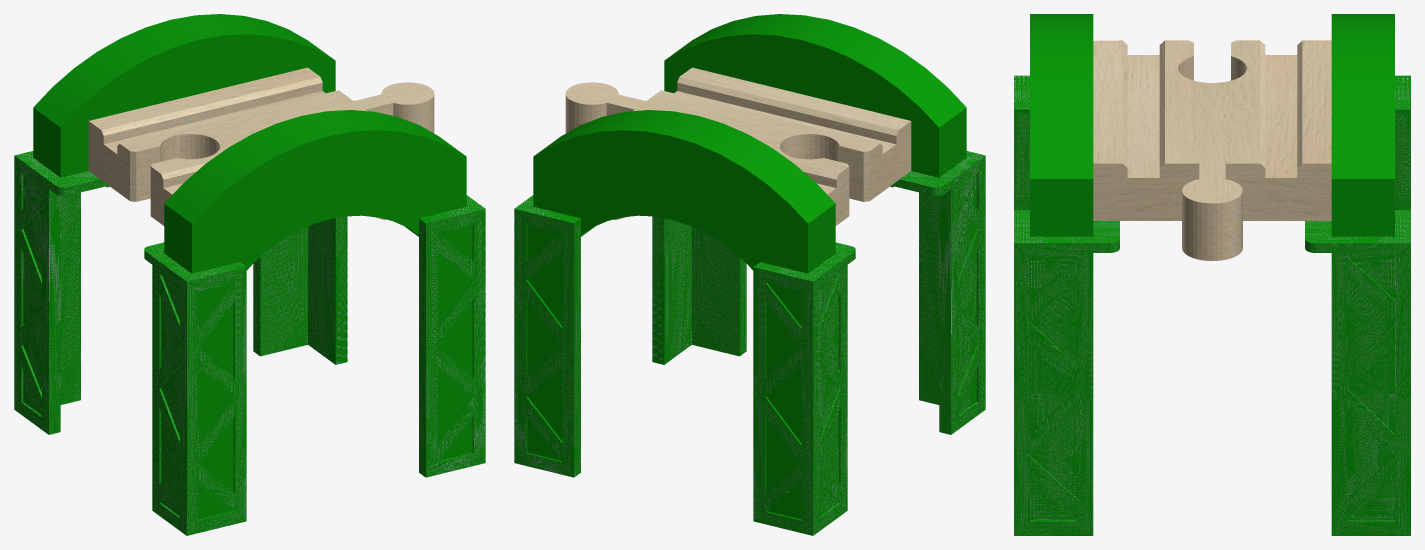
3 views of the same model, side by side, from view 1: azimuth 30°, elevation 25°; view 2: azimuth 150°, elevation 25°; view 3: azimuth 270°, elevation 25° (orthographic). The views are drawn at different scales.
Visible parts, largest first — view 1: Stacking_Track_Support_Leg (×20), Stacking_Track_Arch (×2), SketchUp; view 2: Stacking_Track_Support_Leg (×20), Stacking_Track_Arch (×2), SketchUp; view 3: Stacking_Track_Support_Leg (×14), SketchUp, Stacking_Track_Arch (×2).
Part boxes in pixels (x1,y1,x2,y2): Stacking_Track_Support_Leg (×20): (14, 151, 485, 535); Stacking_Track_Arch (×2): (33, 14, 466, 273); SketchUp: (88, 67, 434, 225); Stacking_Track_Support_Leg (×20): (514, 151, 985, 535); Stacking_Track_Arch (×2): (533, 14, 966, 273); SketchUp: (565, 67, 911, 225); Stacking_Track_Support_Leg (×14): (1014, 75, 1410, 535); SketchUp: (1093, 40, 1331, 260); Stacking_Track_Arch (×2): (1030, 14, 1394, 236).
Bounding box in the file's own units: 3.26 × 2.95 × 3.39.
